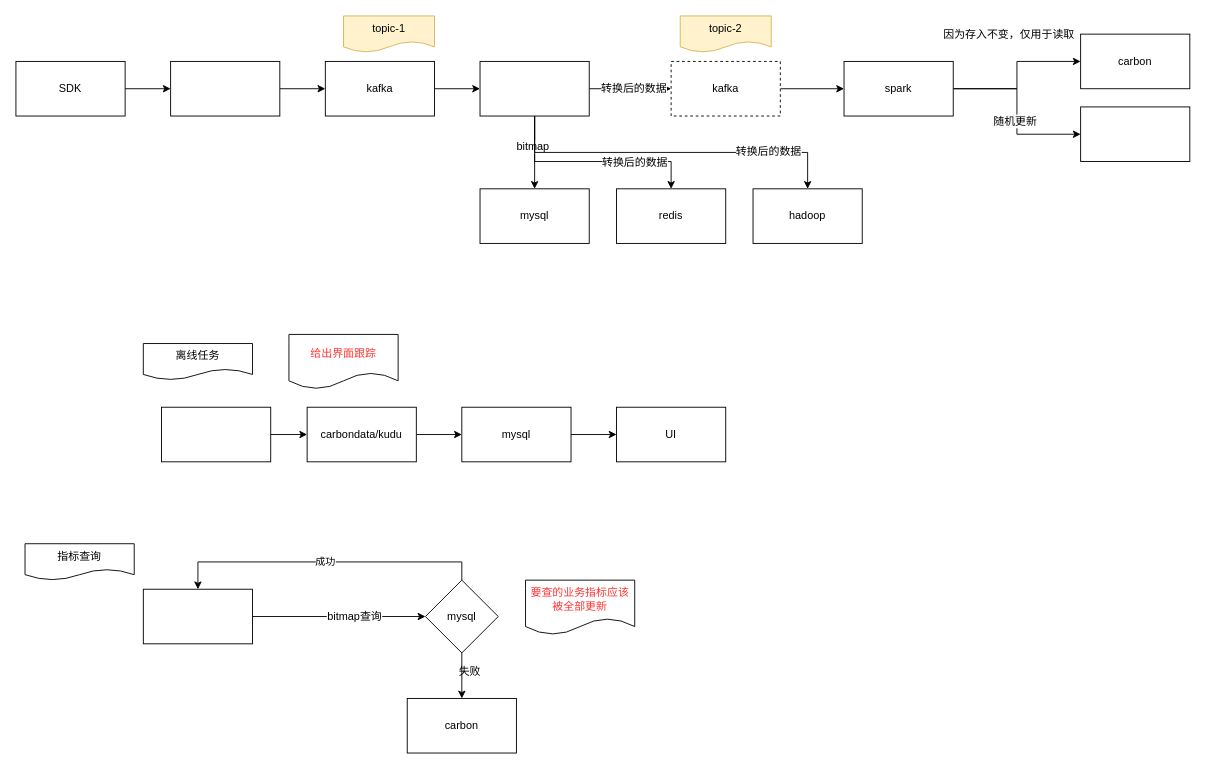
Some shapes in this 1206 by 769 pixel diagram are drawn without their labels. Here are the shapes that lost their labels. From the top down, the centre of each, then its label:
At pixel 225 88: "Collector".
At pixel 534 88: "storm".
At pixel 1135 134: "kudu".
At pixel 216 434: "JobServer".
At pixel 197 616: "report".
